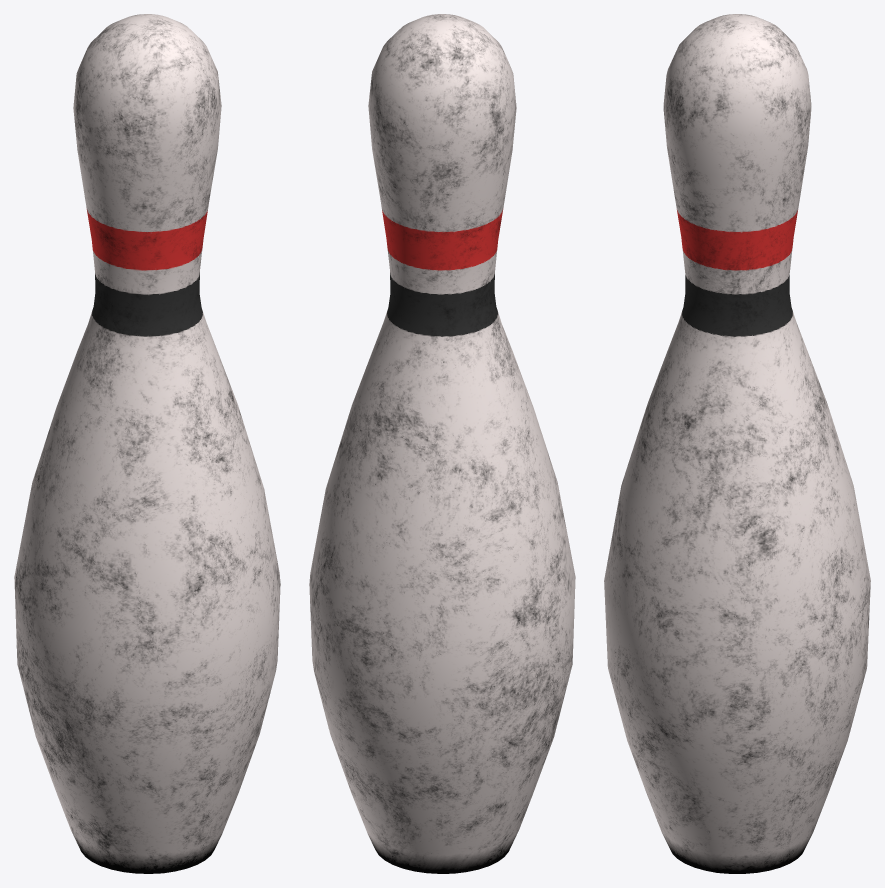
Rendered from Bowling_Pin.obj.
3 views of the same model, side by side, from view 1: azimuth 30°, elevation 25°; view 2: azimuth 150°, elevation 25°; view 3: azimuth 270°, elevation 25° (orthographic).
Bounding box in the file's own units: 0.1135 × 0.3873 × 0.1135.
Materials: 1 (1 with a texture image).
